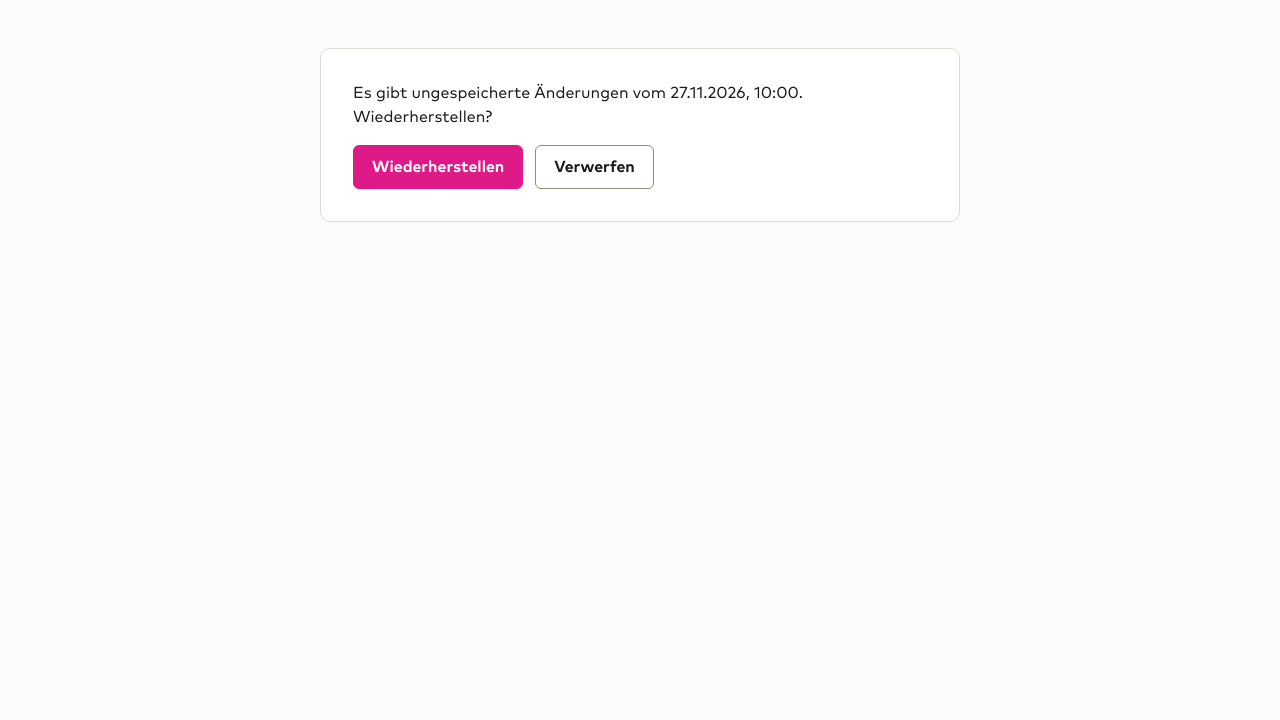
Test case: SiteEditor: gleichzeitige Aenderungen › Entwurf mit Vergleichsbasis vom Klick: nach dem Wiederherstellen wird ebenfalls nachgefragt
Click the button "Wiederherstellen". click: (438, 167)
box: [353,145,523,189]
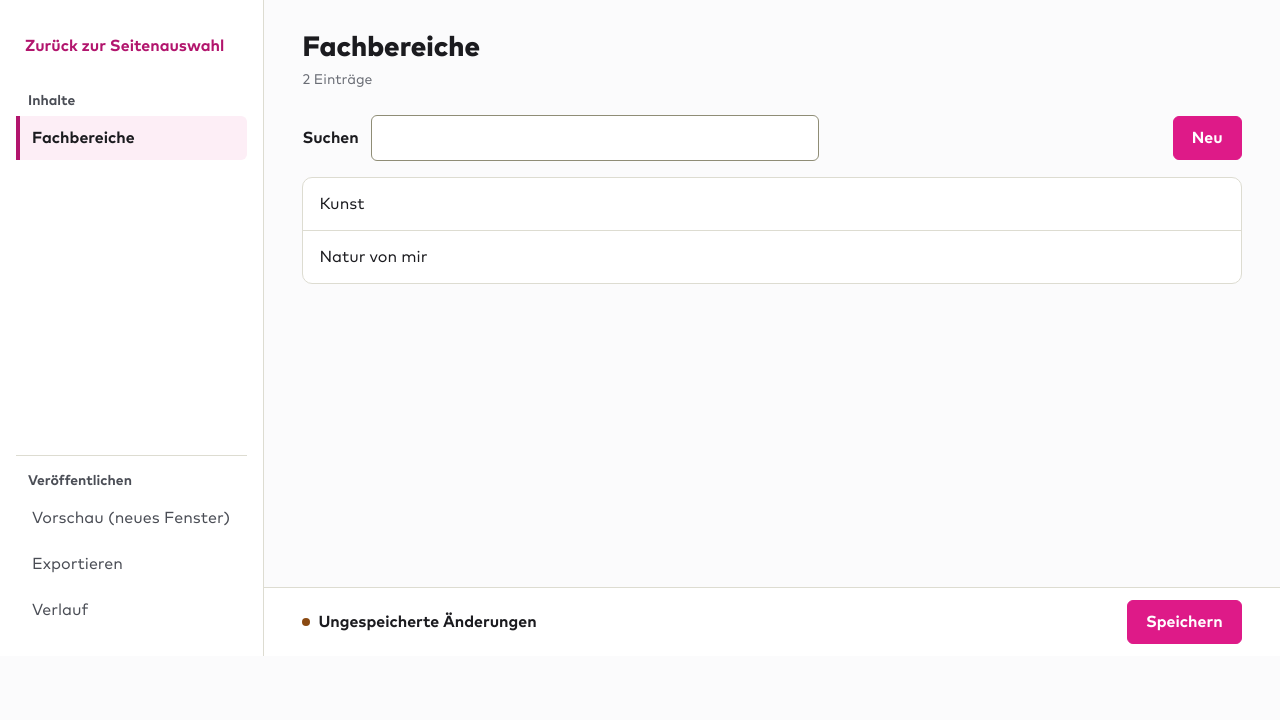
Click the button "Speichern". click: (1184, 622)
box: [1127,600,1242,644]
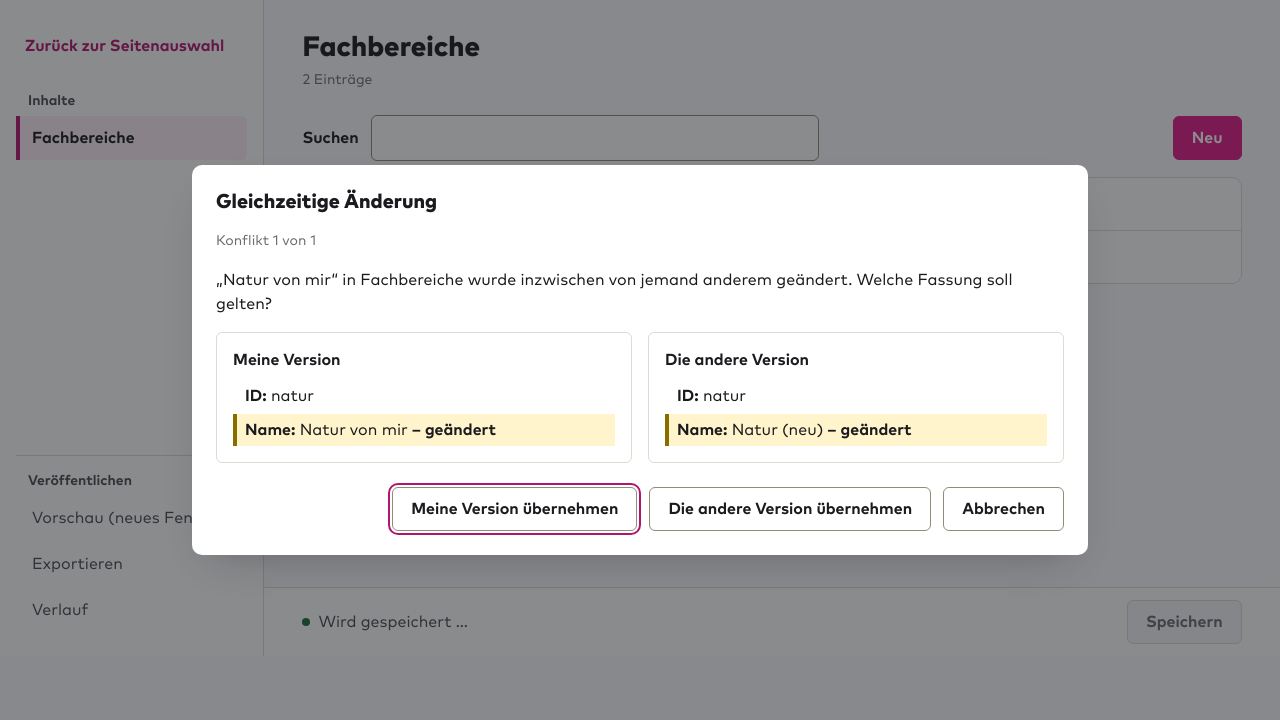
Expected: the dialog is shown, [192,165,1088,555]
